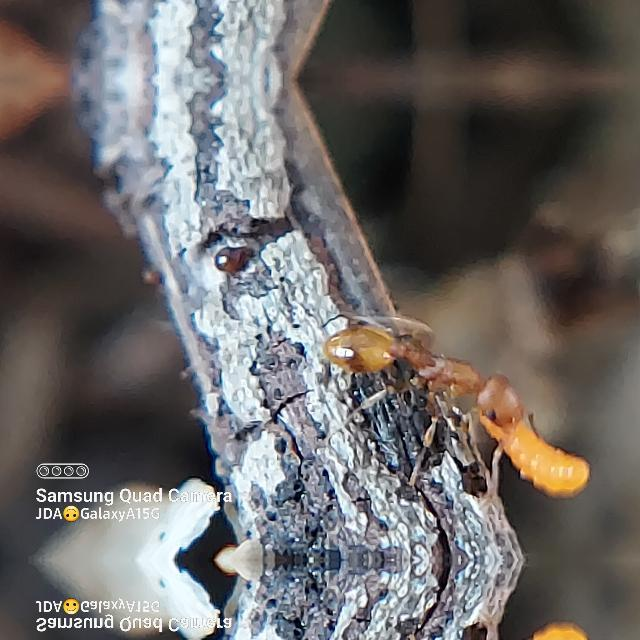Temnothorax: (290, 296, 588, 449)
